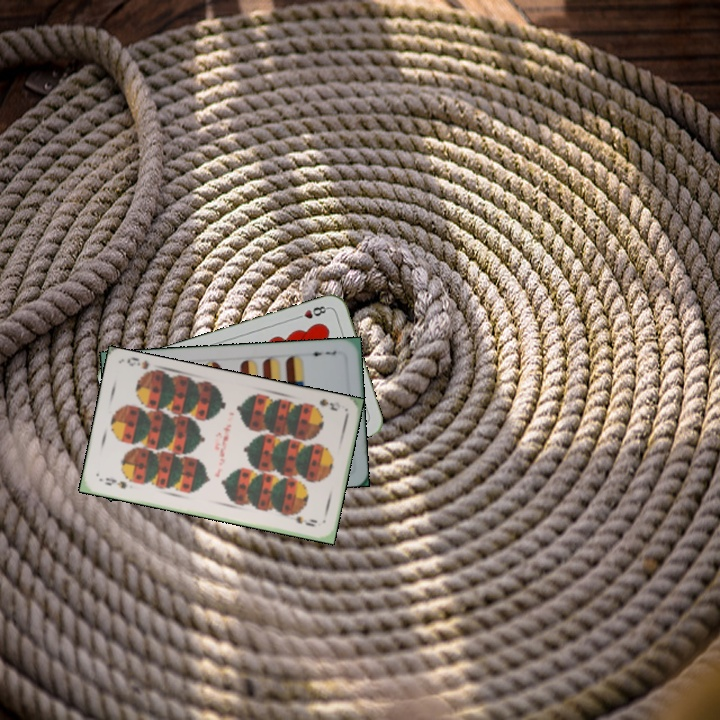E7: (304, 346, 339, 359)
H8: (292, 302, 331, 322)
S9: (305, 395, 340, 413), (100, 474, 129, 491)
